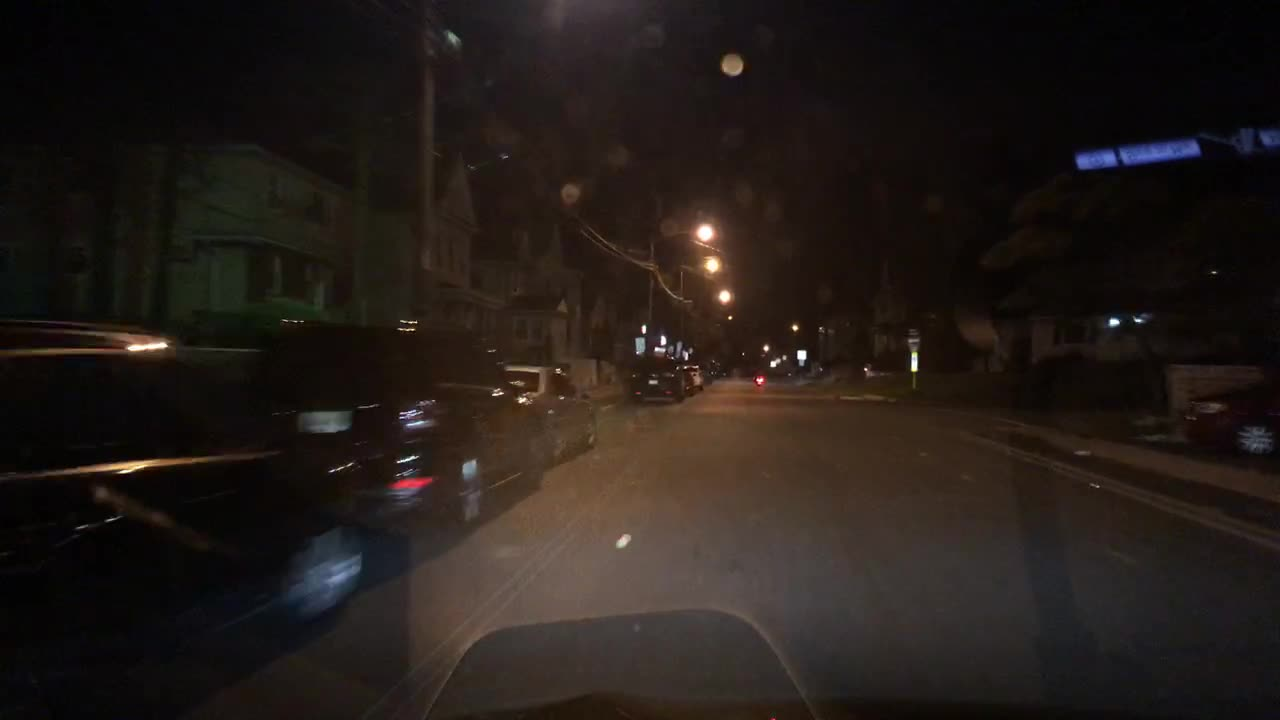car: (0, 315, 374, 716), (229, 317, 548, 531), (494, 362, 600, 468), (1177, 378, 1276, 462), (627, 352, 687, 402), (685, 362, 704, 390), (699, 366, 715, 385), (712, 362, 729, 378)
motor: (751, 371, 767, 385)
traffic sign: (903, 328, 921, 351), (909, 350, 919, 372), (635, 336, 647, 350), (796, 349, 807, 360)
